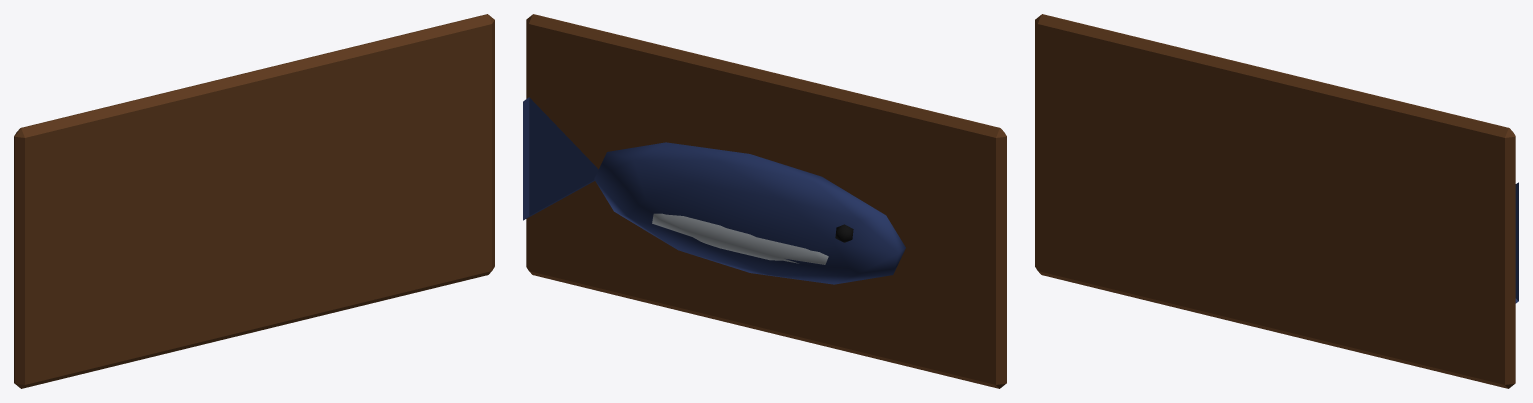
File: tuna_plaque_v0.glb
3 renders of one model, left to right at view 1: azimuth 30°, elevation 25°; view 2: azimuth 150°, elevation 25°; view 3: azimuth 330°, elevation 25°, orthographic.
Visible parts, largest first — view 1: tuna_plaque_v0; view 2: tuna_plaque_v0; view 3: tuna_plaque_v0.
Part boxes in pixels (x1,y1,x2,y2): tuna_plaque_v0: [14, 14, 494, 388]; tuna_plaque_v0: [523, 14, 1006, 388]; tuna_plaque_v0: [1035, 14, 1518, 388].
Bounding box in the file's own units: 1.35 × 0.7 × 0.1813.
